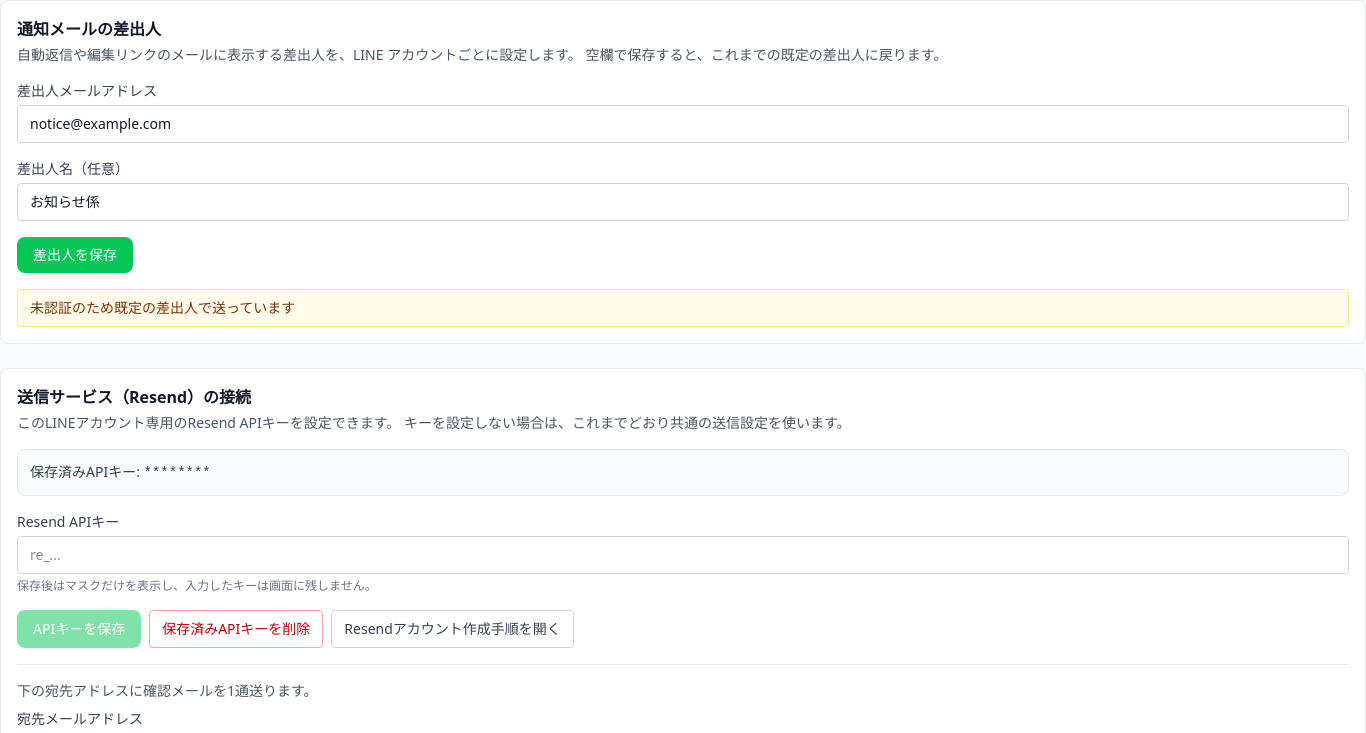
EmailSenderSettingsPanel › 保存済みResend APIキーを選択中アカウントから削除する
Expected: the text "********" is shown, x1=144 y1=465 x2=211 y2=481
Click the button "保存済みAPIキーを削除" at (236, 629), box x1=149 y1=610 x2=323 y2=648
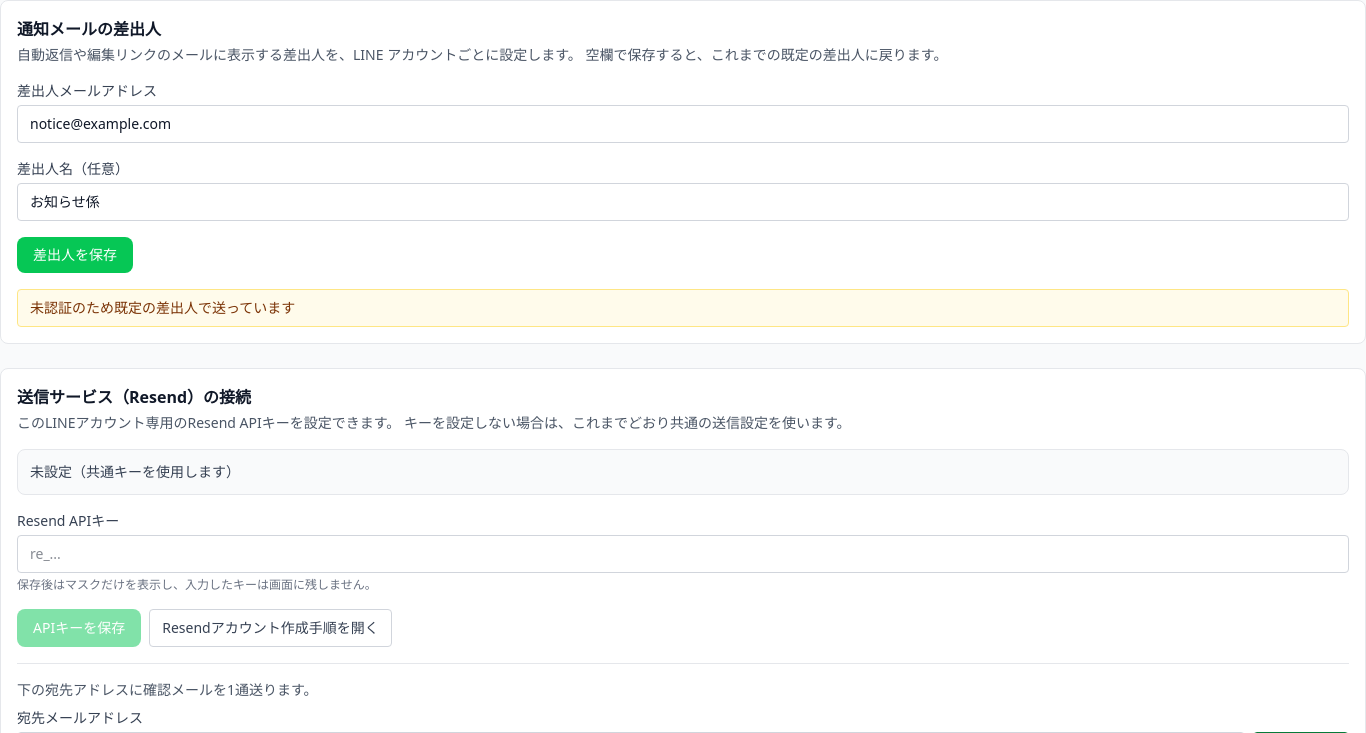
Expected: the text "未設定（共通キーを使用します）" is shown, x1=30 y1=462 x2=240 y2=481
